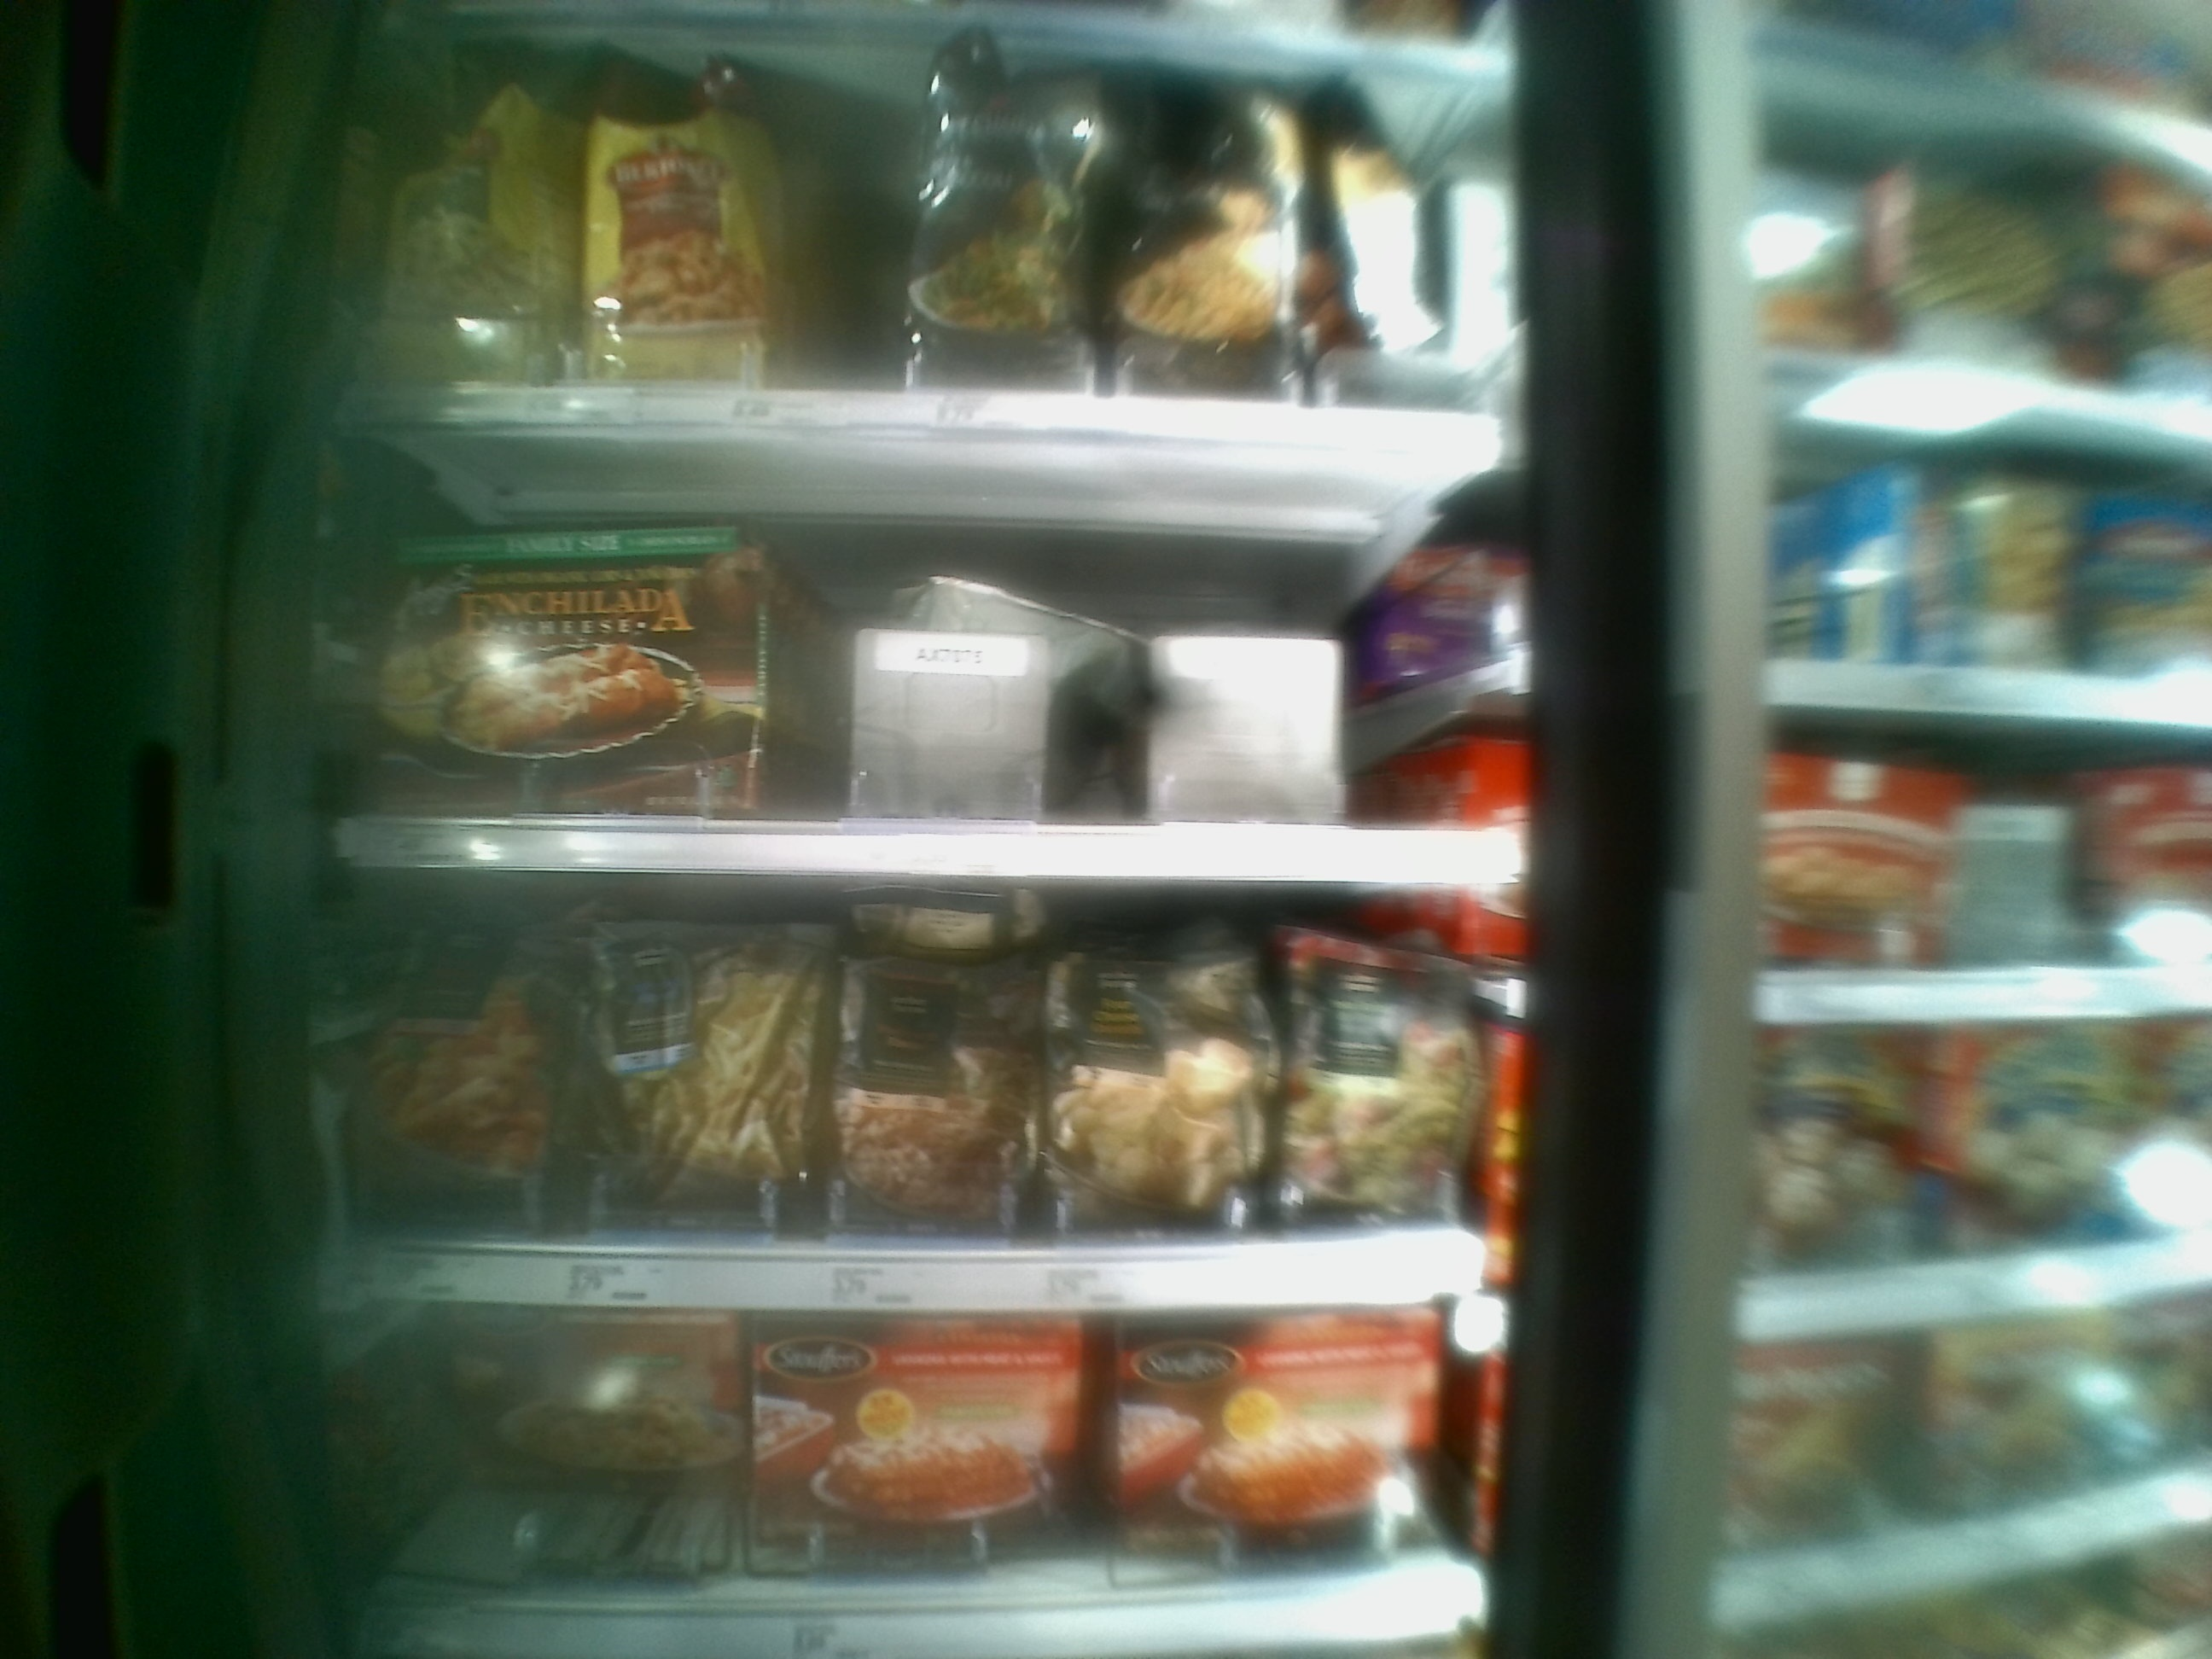shelf: (320, 859, 1491, 1293)
